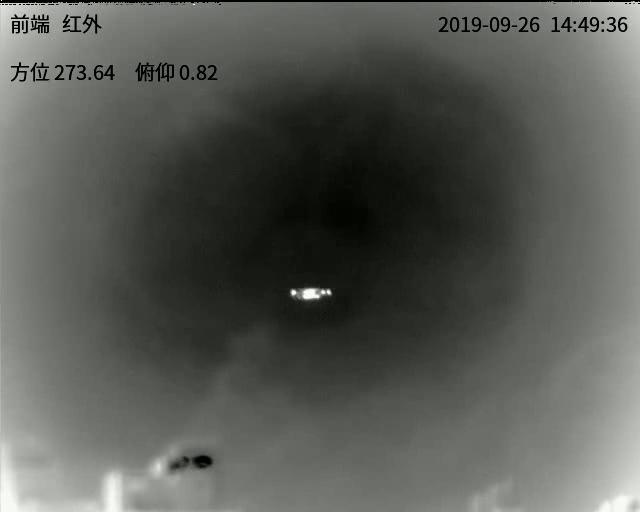DRONE: (290, 286, 334, 301)
